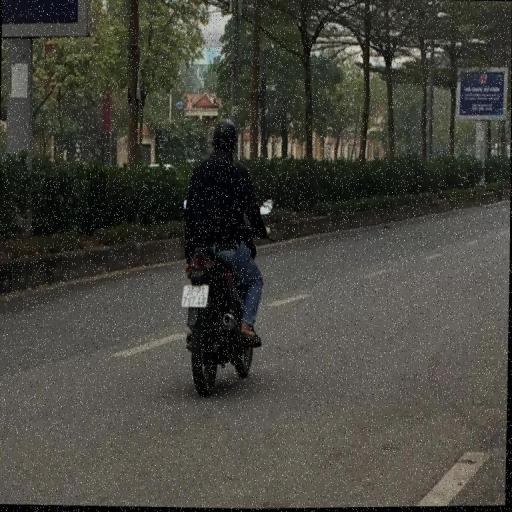bike: (179, 116, 275, 398)
numberplate: (181, 283, 210, 310)
with helmet: (212, 118, 238, 153)
